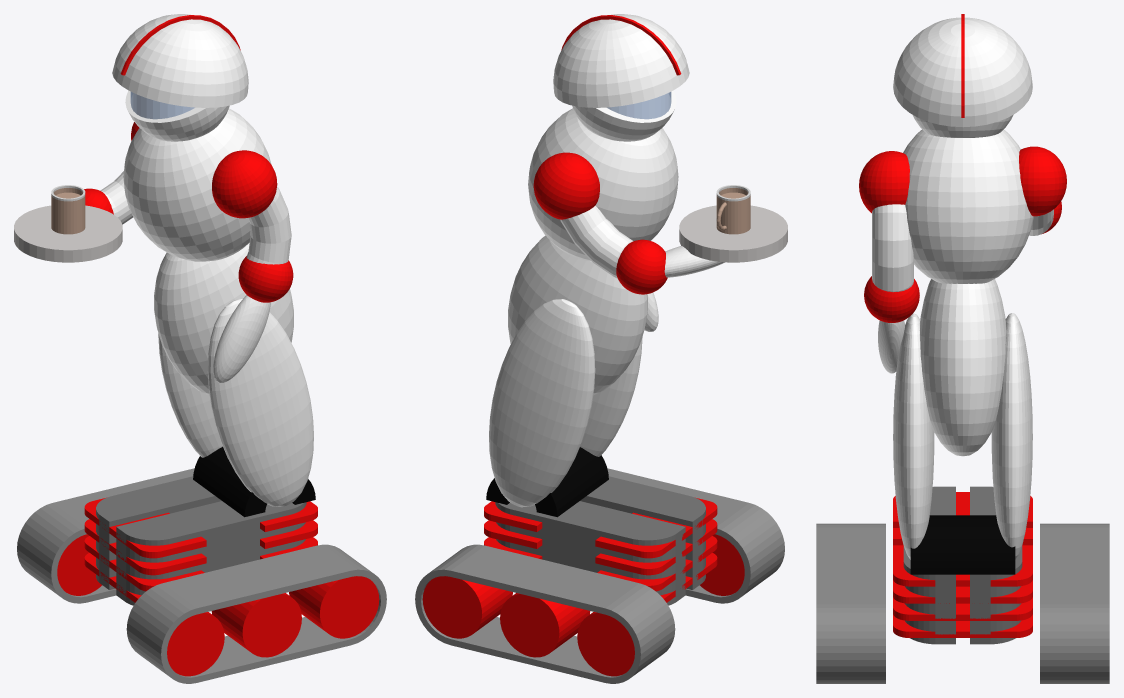
File: Robot.glb
The picture shows the model from 3 angles, left to right: view 1: azimuth 30°, elevation 25°; view 2: azimuth 150°, elevation 25°; view 3: azimuth 270°, elevation 25°; orthographic projection.
Parts seen in each view (by area): view 1: VisualSceneNode1.027, VisualSceneNode1.015, VisualSceneNode1.014, VisualSceneNode1.013, VisualSceneNode1.004, VisualSceneNode1.036, VisualSceneNode1.007, VisualSceneNode1.017, VisualSceneNode1.040, VisualSceneNode1.038, VisualSceneNode1.034, VisualSceneNode1 (+21 smaller); view 2: VisualSceneNode1.016, VisualSceneNode1.015, VisualSceneNode1.013, VisualSceneNode1.014, VisualSceneNode1.017, VisualSceneNode1.002, VisualSceneNode1.007, VisualSceneNode1.004, VisualSceneNode1.011, VisualSceneNode1.005, VisualSceneNode1, VisualSceneNode1.034 (+20 smaller); view 3: VisualSceneNode1.015, VisualSceneNode1.013, VisualSceneNode1.014, VisualSceneNode1.027, VisualSceneNode1.016, VisualSceneNode1.001, VisualSceneNode1.035, VisualSceneNode1.002, VisualSceneNode1.036, VisualSceneNode1.041, VisualSceneNode1.009, VisualSceneNode1.017 (+11 smaller).
Part boxes in pixels (x1=…): VisualSceneNode1.027: x1=207, y1=299, x2=313, y2=506; VisualSceneNode1.015: x1=123, y1=108, x2=271, y2=261; VisualSceneNode1.014: x1=112, y1=14, x2=248, y2=107; VisualSceneNode1.013: x1=154, y1=243, x2=293, y2=395; VisualSceneNode1.004: x1=116, y1=501, x2=306, y2=605; VisualSceneNode1.036: x1=163, y1=545, x2=351, y2=614; VisualSceneNode1.007: x1=14, y1=205, x2=122, y2=262; VisualSceneNode1.017: x1=96, y1=476, x2=221, y2=589; VisualSceneNode1.040: x1=211, y1=593, x2=301, y2=657; VisualSceneNode1.038: x1=289, y1=576, x2=379, y2=638; VisualSceneNode1.034: x1=126, y1=583, x2=196, y2=683; VisualSceneNode1: x1=17, y1=503, x2=86, y2=603; VisualSceneNode1.016: x1=489, y1=299, x2=595, y2=507; VisualSceneNode1.015: x1=528, y1=108, x2=678, y2=260; VisualSceneNode1.013: x1=508, y1=235, x2=647, y2=395; VisualSceneNode1.014: x1=553, y1=14, x2=689, y2=107; VisualSceneNode1.017: x1=495, y1=501, x2=685, y2=605; VisualSceneNode1.002: x1=450, y1=545, x2=638, y2=614; VisualSceneNode1.007: x1=679, y1=205, x2=787, y2=262; VisualSceneNode1.004: x1=580, y1=476, x2=705, y2=589; VisualSceneNode1.011: x1=500, y1=593, x2=590, y2=657; VisualSceneNode1.005: x1=422, y1=576, x2=512, y2=638; VisualSceneNode1: x1=605, y1=583, x2=675, y2=683; VisualSceneNode1.034: x1=715, y1=503, x2=784, y2=603; VisualSceneNode1.015: x1=903, y1=129, x2=1033, y2=283; VisualSceneNode1.013: x1=920, y1=279, x2=1006, y2=456; VisualSceneNode1.014: x1=893, y1=17, x2=1032, y2=127; VisualSceneNode1.027: x1=893, y1=313, x2=934, y2=559; VisualSceneNode1.016: x1=991, y1=313, x2=1032, y2=559; VisualSceneNode1.001: x1=1040, y1=604, x2=1109, y2=683; VisualSceneNode1.035: x1=816, y1=604, x2=885, y2=683; VisualSceneNode1.002: x1=1040, y1=527, x2=1109, y2=604; VisualSceneNode1.036: x1=816, y1=527, x2=885, y2=604; VisualSceneNode1.041: x1=910, y1=515, x2=1015, y2=574; VisualSceneNode1.009: x1=872, y1=204, x2=913, y2=292; VisualSceneNode1.017: x1=970, y1=486, x2=1022, y2=644.
Size of the model in its own units: 0.9875 by 1.93 by 0.84.
